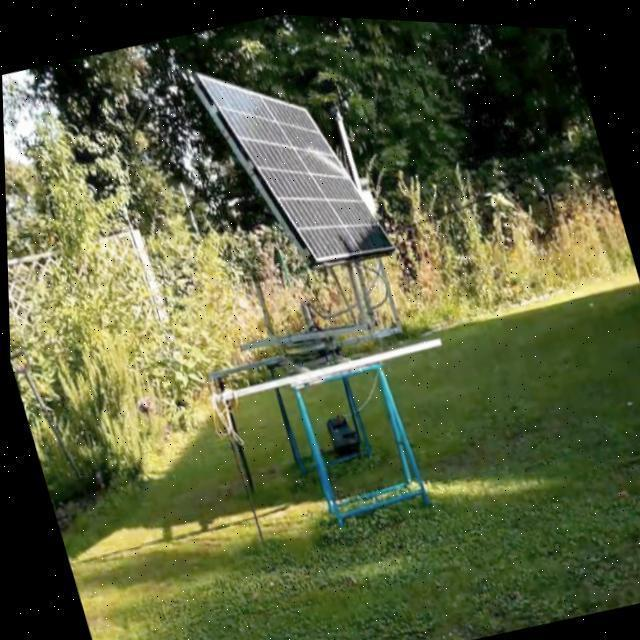Normal Solar Panel: (194, 35, 392, 283)
